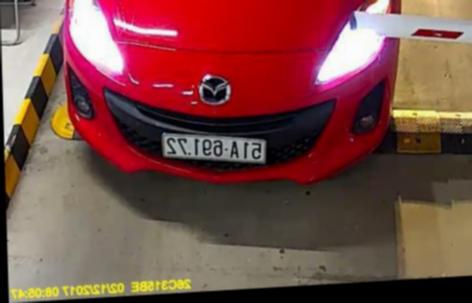License_Plate: (160, 126, 269, 169)
